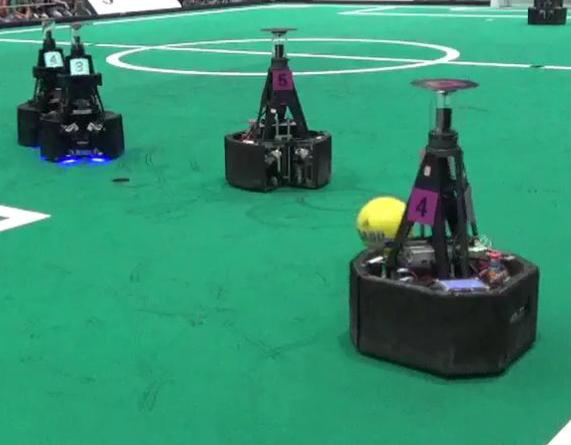robot: (348, 74, 545, 384), (225, 22, 334, 195), (41, 25, 124, 162)
